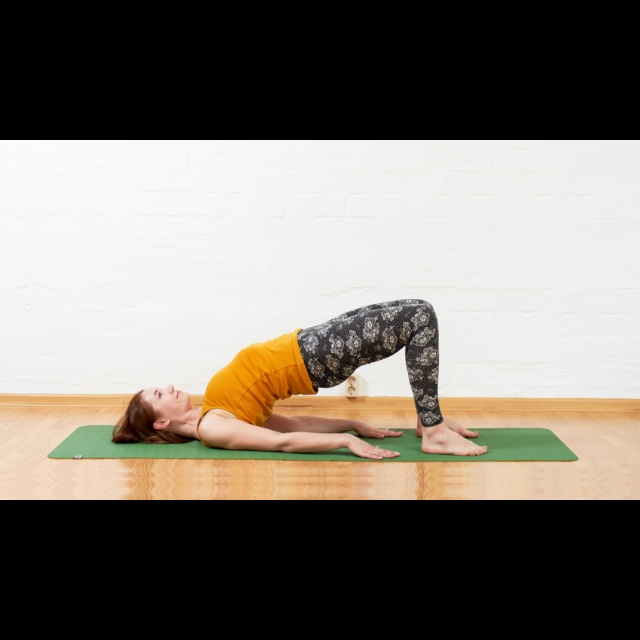Bridge_Pose: (100, 289, 497, 462)
